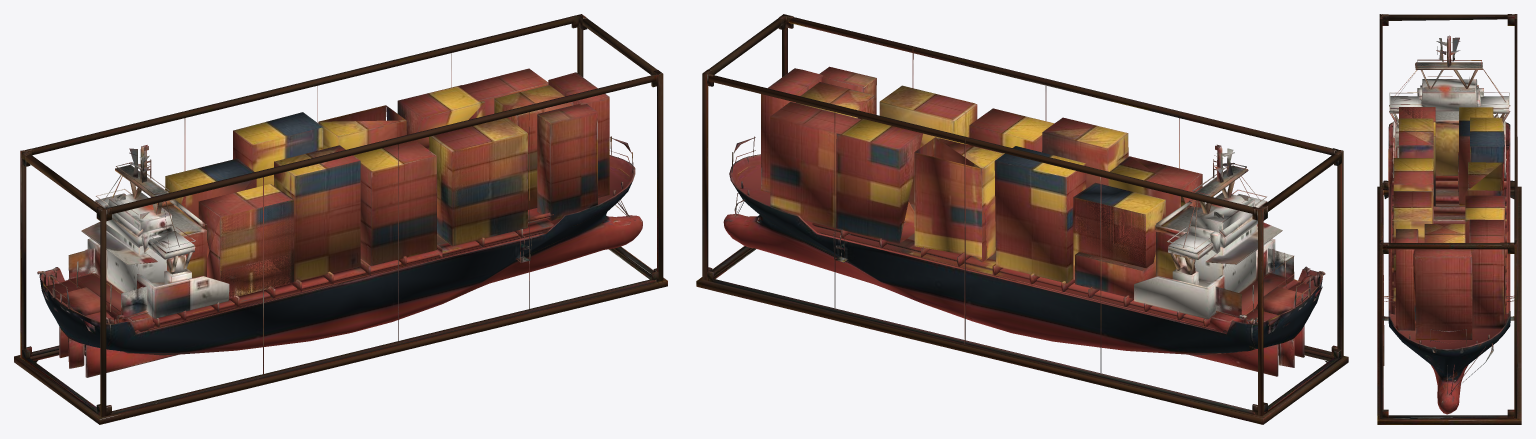
Rendered from office-ship-model.glb.
3 views of the same model, side by side, from view 1: azimuth 30°, elevation 25°; view 2: azimuth 150°, elevation 25°; view 3: azimuth 270°, elevation 25° (orthographic). The views are drawn at different scales.
Parts seen in each view (by area): view 1: ship-model; view 2: ship-model; view 3: ship-model.
Boxes of the visible parts, bbox=[...] form: ship-model: bbox=[14, 14, 667, 424]; ship-model: bbox=[696, 14, 1348, 424]; ship-model: bbox=[1377, 14, 1521, 424].
Bounding box in the file's own units: 1.6 × 0.5948 × 0.4064.
Materials: 1 (1 with a texture image).
